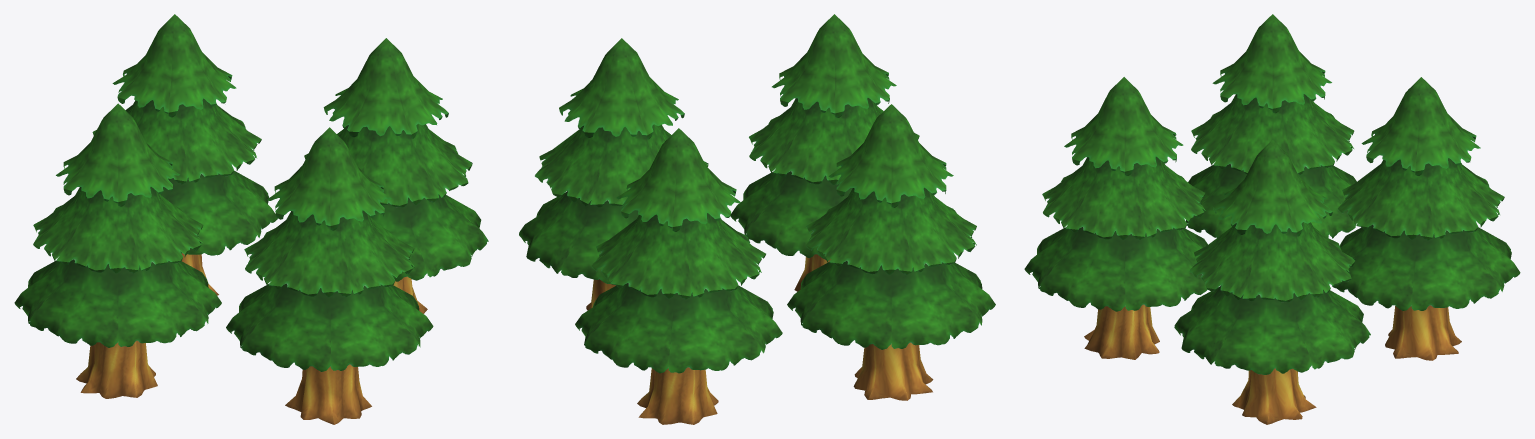
The model's file is Tree 6.fbx.
3 views of the same model, side by side, from view 1: azimuth 30°, elevation 25°; view 2: azimuth 150°, elevation 25°; view 3: azimuth 270°, elevation 25° (orthographic). The views are drawn at different scales.
Parts seen in each view (by area): view 1: tree6; view 2: tree6; view 3: tree6.
Boxes of the visible parts, x1,y1,x2,y2 form: tree6: (14, 14, 488, 424); tree6: (519, 14, 995, 424); tree6: (1024, 14, 1520, 424).
Size of the model in its own units: 3.34 by 1.99 by 3.34.
